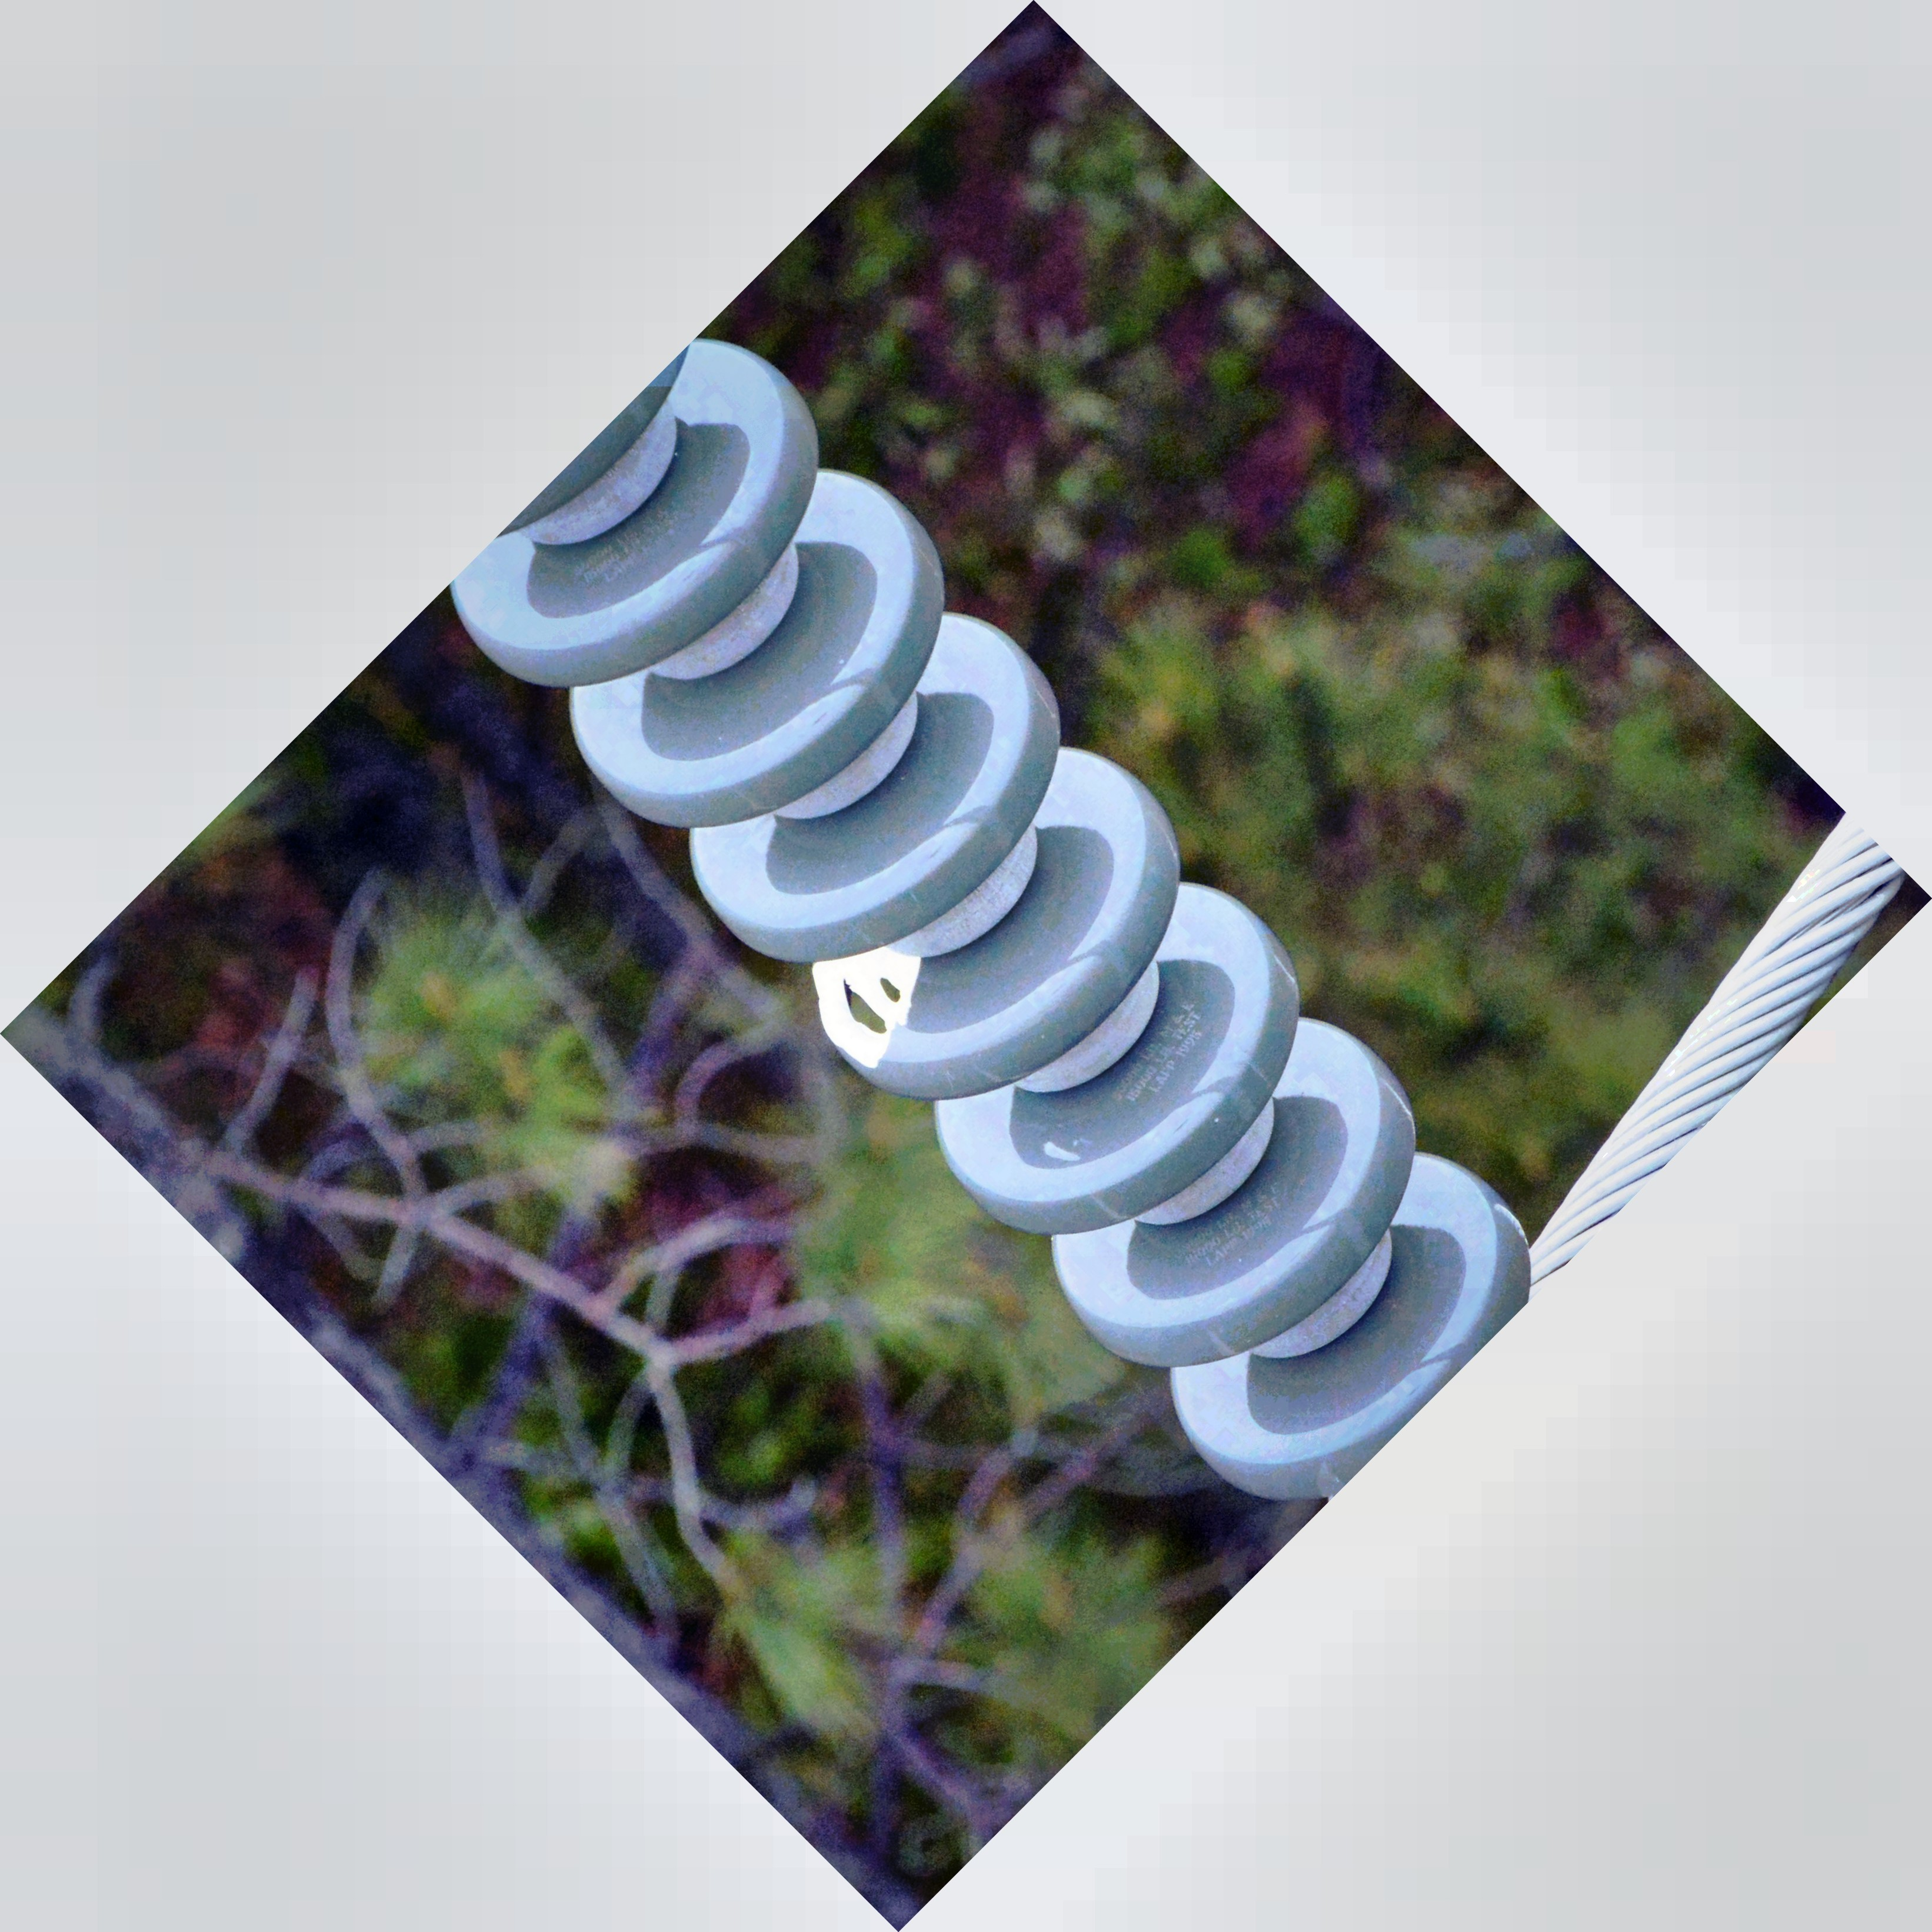insulator breakage: (764, 740, 1185, 1115)
